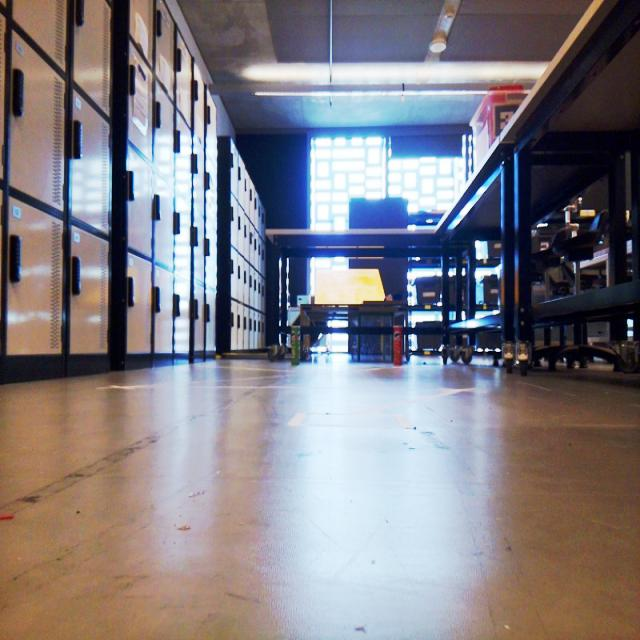greenpringles: (287, 314, 310, 368)
redpringles: (391, 320, 408, 367)
